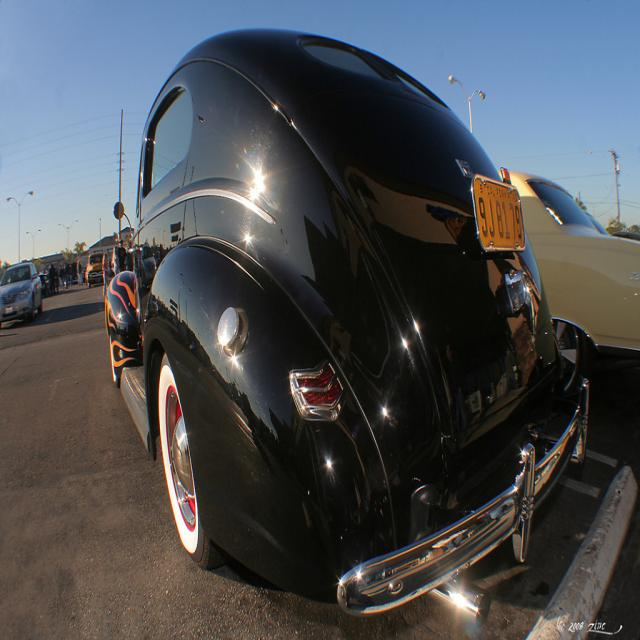car: (99, 21, 614, 602)
